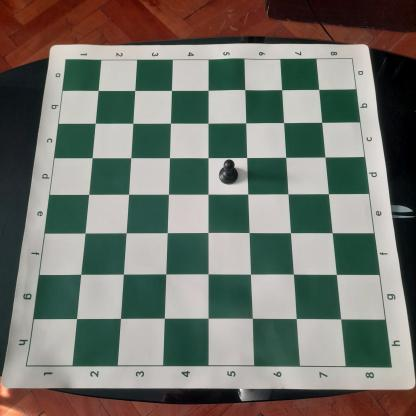black-pawn: (217, 158, 240, 186)
